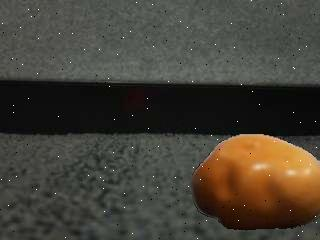Potato: (190, 133, 320, 231)
